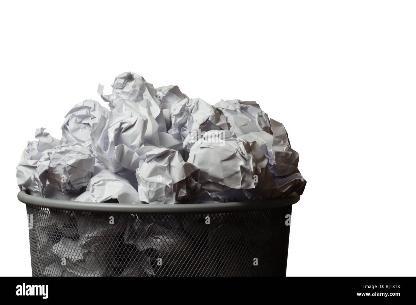Others: (15, 71, 307, 277)
